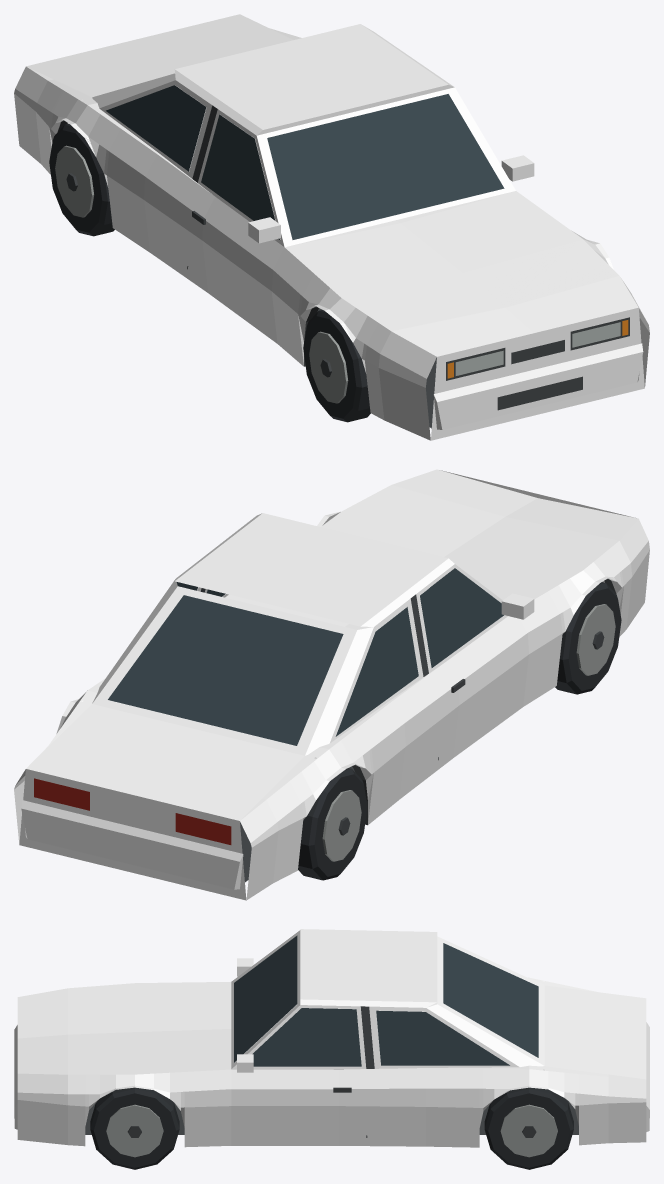
Rendered from mizuchi_chidori_sr_98.glb.
The picture shows the model from 3 angles, top to bottom: view 1: azimuth 30°, elevation 25°; view 2: azimuth 150°, elevation 25°; view 3: azimuth 270°, elevation 25°; orthographic projection. The views are drawn at different scales.
Parts seen in each view (by area): view 1: mizuchi_chidori_sr_98; view 2: mizuchi_chidori_sr_98; view 3: mizuchi_chidori_sr_98.
Part boxes in pixels (bbox=[...]): mizuchi_chidori_sr_98: bbox=[14, 14, 649, 440]; mizuchi_chidori_sr_98: bbox=[14, 469, 649, 900]; mizuchi_chidori_sr_98: bbox=[14, 929, 649, 1169].
Bounding box in the file's own units: 1.76 × 1.23 × 4.53.
Materials: 8 (1 with a texture image).
